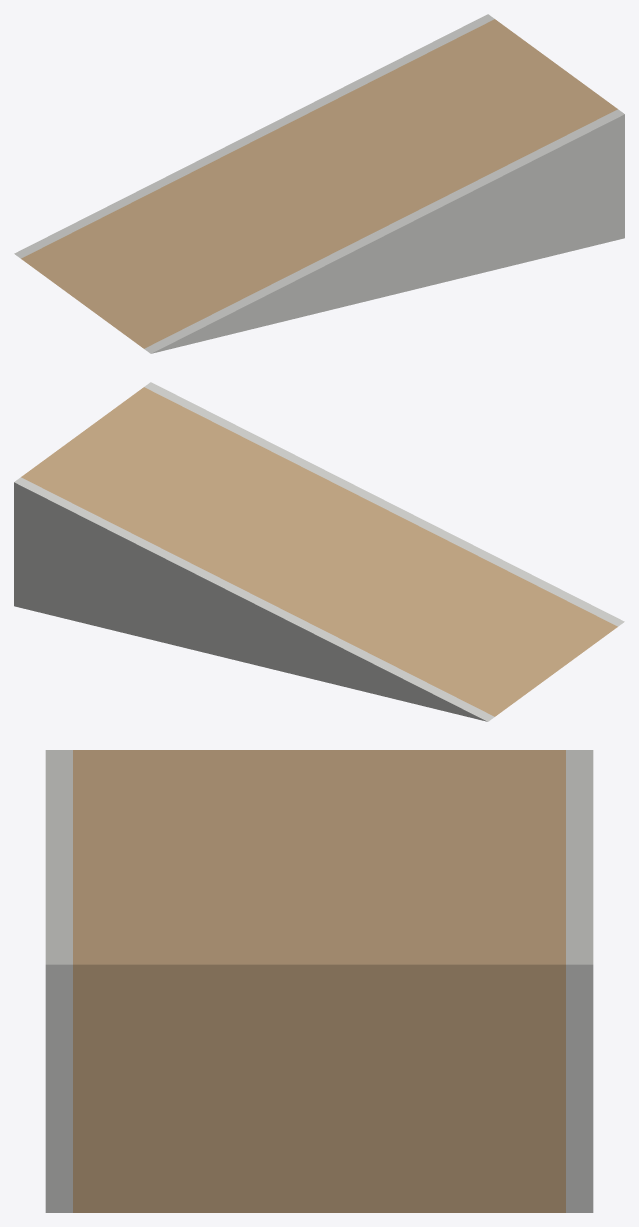
The model's file is SM_Course_Ramp.fbx.
3 views of the same model, one above another, from view 1: azimuth 30°, elevation 25°; view 2: azimuth 150°, elevation 25°; view 3: azimuth 270°, elevation 25° (orthographic). The views are drawn at different scales.
Parts seen in each view (by area): view 1: SM_Course_Ramp; view 2: SM_Course_Ramp; view 3: SM_Course_Ramp.
Part boxes in pixels (left/top/right/bottom): SM_Course_Ramp: left=14, top=14, right=624, bottom=353; SM_Course_Ramp: left=14, top=382, right=624, bottom=721; SM_Course_Ramp: left=45, top=750, right=593, bottom=1212.
Bounding box in the file's own units: 400 × 100 × 200.
